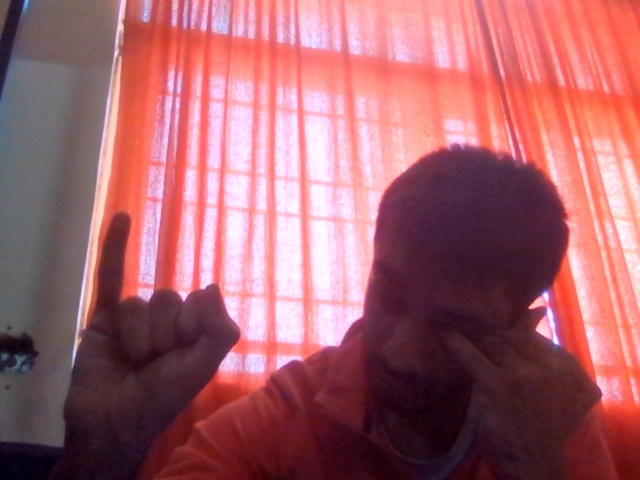I: (51, 182, 260, 480)
